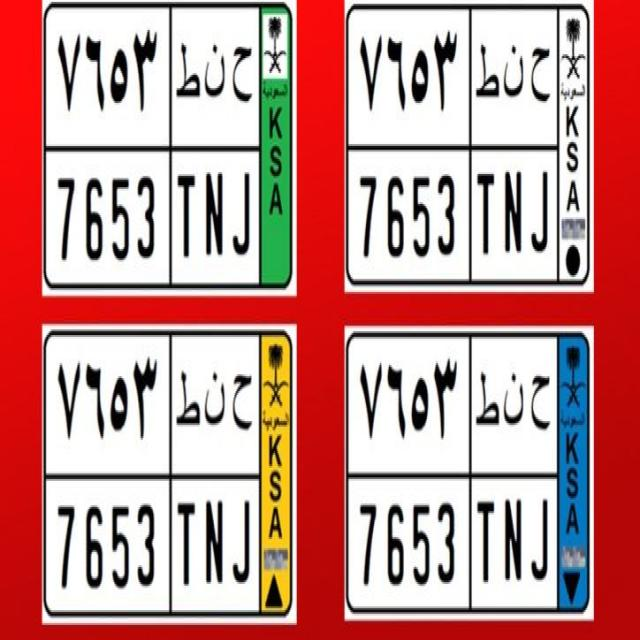license_plate: (354, 163, 554, 271), (53, 164, 254, 270)
